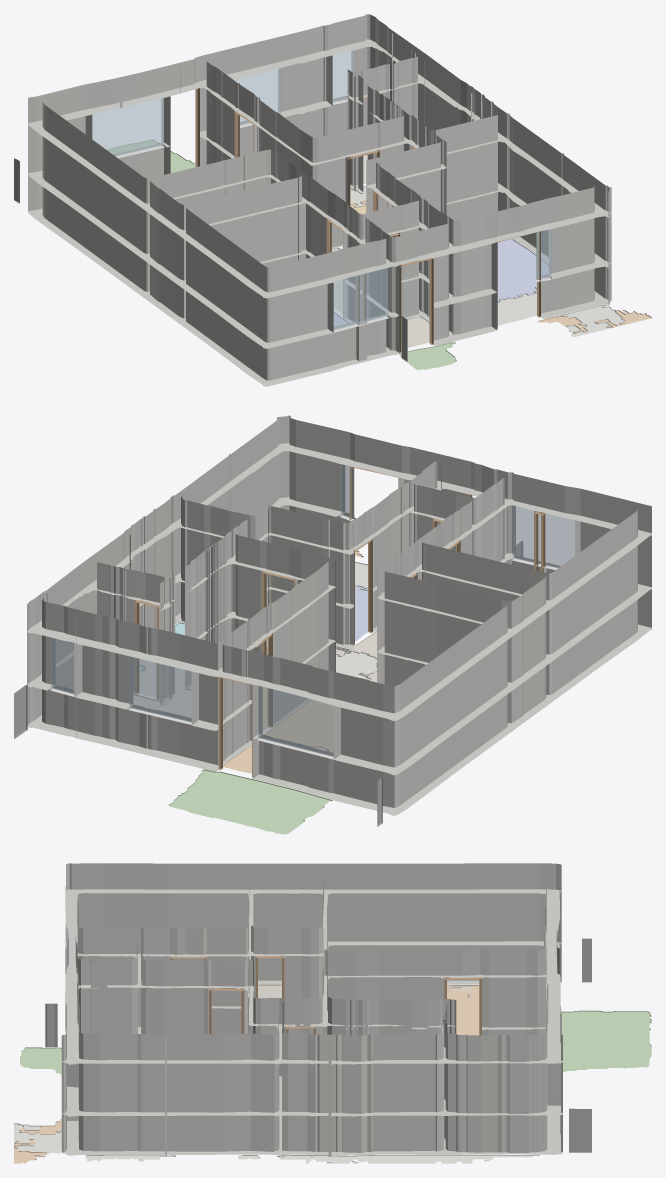
3 renders of one model, top to bottom at view 1: azimuth 30°, elevation 25°; view 2: azimuth 150°, elevation 25°; view 3: azimuth 270°, elevation 25°, orthographic. The views are drawn at different scales.
Parts seen in each view (by area): view 1: walls, window_14, window_15, floor_11_Bed_Room, window_12, floor_19_Undefined, floor_21_Undefined, floor_0_Outdoor, window_13, door_11, window_16, floor_16_Entry (+2 smaller); view 2: walls, floor_1_Outdoor, window_14, window_12, window_15, floor_8_Living_Room, floor_29_Undefined, window_13, railings, floor_25_Undefined, window_16, floor_11_Bed_Room (+2 smaller); view 3: walls, floor_1_Outdoor, railings, floor_28_Undefined, floor_8_Living_Room, floor_19_Undefined, floor_0_Outdoor.
Part boxes in pixels (box(x1,y1,x2,y2)): walls: box(28, 14, 611, 386); window_14: box(88, 94, 163, 156); window_15: box(333, 268, 388, 329); floor_11_Bed_Room: box(497, 239, 548, 302); window_12: box(234, 68, 281, 125); floor_19_Undefined: box(557, 304, 625, 337); floor_21_Undefined: box(497, 286, 536, 325); floor_0_Outdoor: box(399, 342, 456, 370); window_13: box(332, 50, 355, 102); door_11: box(399, 258, 433, 352); window_16: box(536, 227, 551, 279); floor_16_Entry: box(401, 316, 429, 349); walls: box(27, 415, 651, 815); floor_1_Outdoor: box(168, 769, 332, 834); window_14: box(258, 686, 337, 756); window_12: box(129, 656, 191, 721); window_15: box(513, 503, 574, 567); floor_8_Living_Room: box(223, 700, 333, 773); floor_29_Undefined: box(133, 659, 191, 717); window_13: box(51, 634, 77, 694); railings: box(14, 541, 522, 826); floor_25_Undefined: box(266, 647, 377, 679); window_16: box(341, 461, 354, 518); floor_11_Bed_Room: box(355, 585, 367, 641); walls: box(61, 863, 562, 1156); floor_1_Outdoor: box(561, 1010, 651, 1071); railings: box(45, 938, 591, 1152); floor_28_Undefined: box(277, 1155, 539, 1163); floor_8_Living_Room: box(447, 985, 479, 1035); floor_19_Undefined: box(14, 1123, 61, 1153); floor_0_Outdoor: box(20, 1047, 61, 1075).
Bounding box in the file's own units: 9.01 × 2.72 × 13.32.
